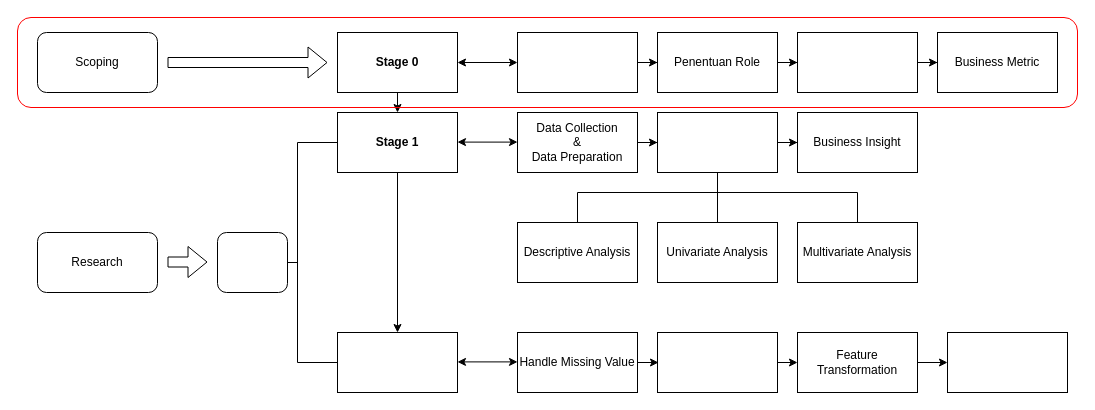
This 1095x410 diagram has some shape labels left out. The box of each missing label's shape, as (x1, y1, x2, y2) in pixels:
Business Understanding: (516, 32, 638, 92)
Data Preparation: (216, 232, 288, 292)
EDA: (656, 112, 778, 172)
Feature Engineering and Selection: (946, 332, 1068, 392)
Goal dan Objective: (796, 32, 918, 92)
Handle Outlier: (656, 332, 778, 392)
Stage 2: (336, 332, 458, 392)
